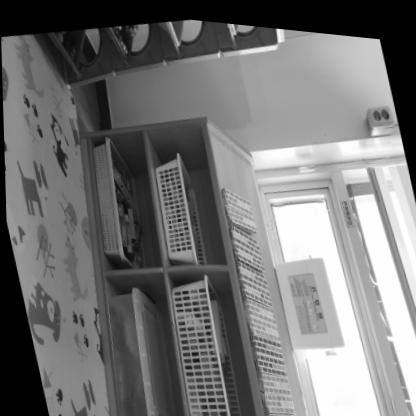DDL: (270, 246, 343, 354)
